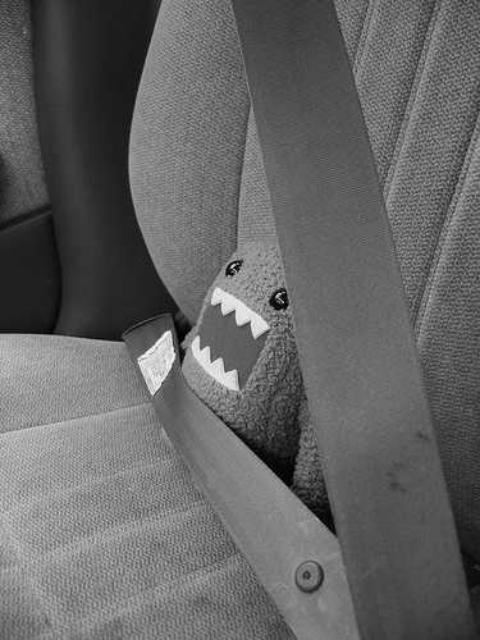Seatbelt: (118, 0, 480, 640)
